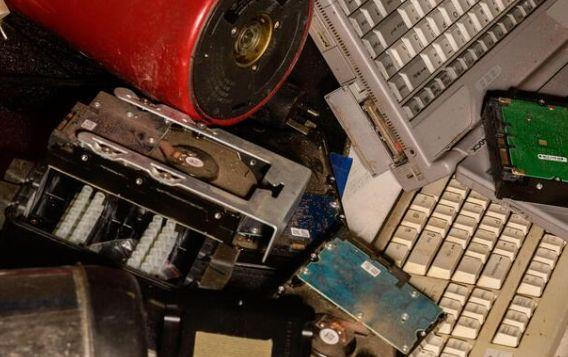electronic: (5, 87, 330, 295), (304, 1, 564, 182), (362, 173, 568, 356), (191, 0, 315, 124), (53, 185, 107, 244), (361, 97, 406, 166), (0, 161, 32, 235), (368, 5, 418, 50), (77, 130, 141, 164), (153, 104, 195, 126), (4, 158, 36, 184), (114, 87, 141, 104), (80, 119, 97, 130)
